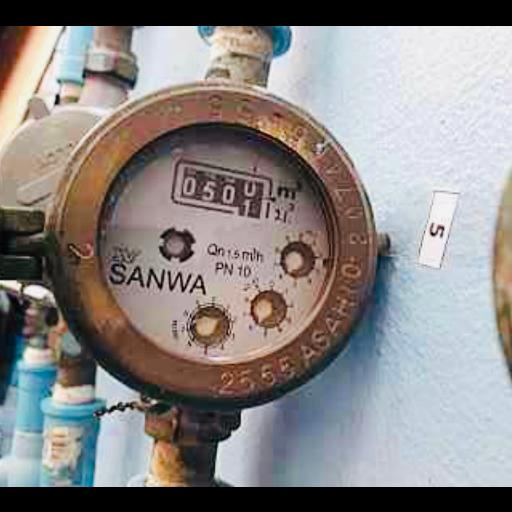0: (238, 177, 263, 218), (218, 173, 243, 207), (180, 166, 203, 200)
5: (199, 169, 222, 203)
border_water_meter_number: (168, 157, 278, 220)
